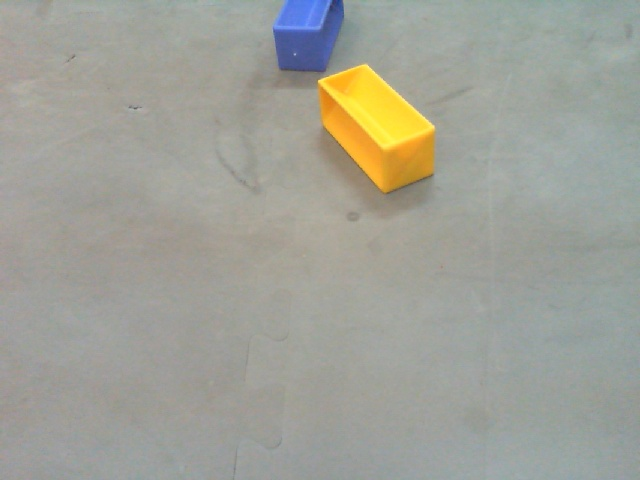BlueSample: (272, 1, 345, 73)
YellowSample: (317, 63, 437, 198)
